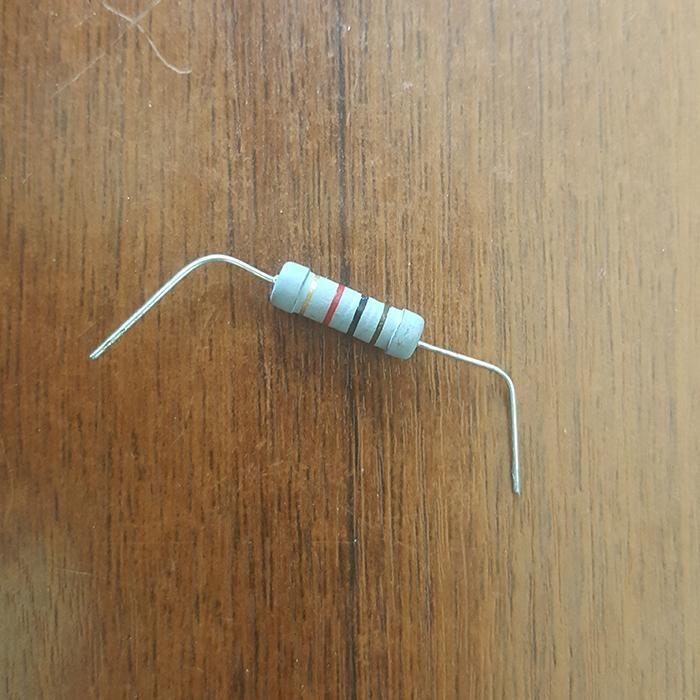resistor: (266, 260, 427, 357)
